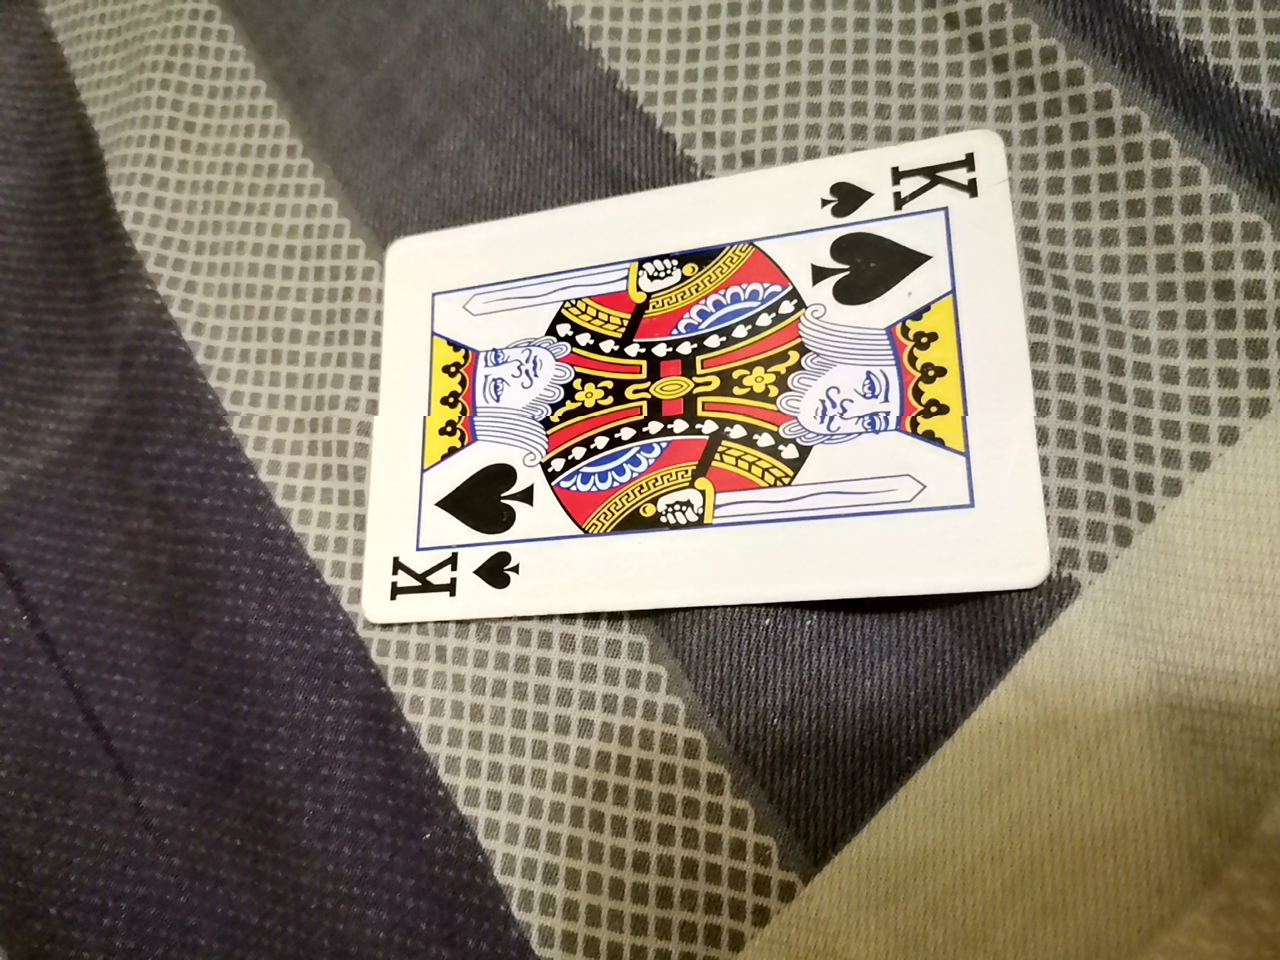ht k: (361, 128, 1036, 624)
